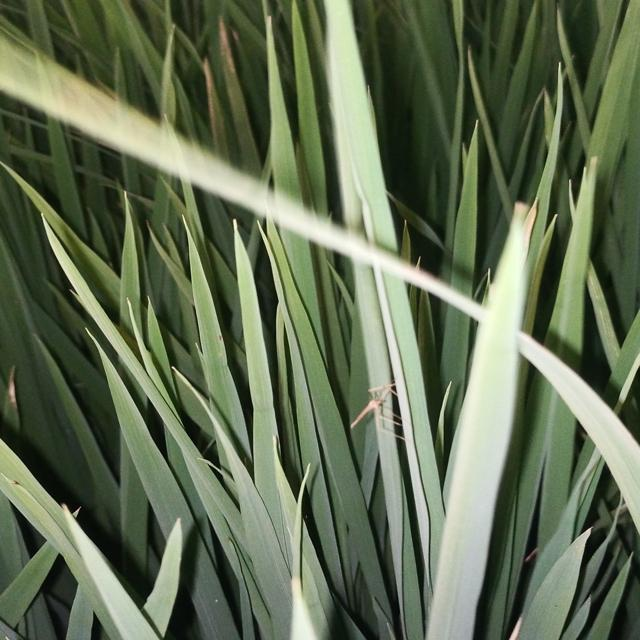green leaf hopper: (348, 379, 407, 448)
